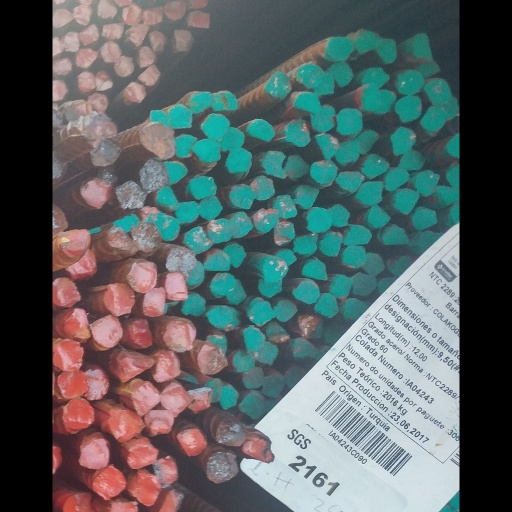dipstick: (103, 122, 157, 159), (91, 468, 138, 506), (57, 280, 106, 315), (33, 432, 77, 470), (75, 350, 127, 382), (85, 436, 135, 469), (1, 228, 47, 263), (66, 409, 116, 441), (44, 134, 91, 168), (46, 312, 89, 349), (1, 308, 49, 341), (33, 111, 84, 142), (47, 465, 92, 500), (9, 397, 55, 431), (190, 449, 234, 484), (86, 316, 132, 348), (62, 223, 108, 255), (241, 428, 281, 464), (88, 258, 130, 292), (155, 425, 198, 458), (32, 177, 76, 209), (200, 413, 242, 445), (76, 179, 122, 208), (99, 381, 136, 417), (108, 158, 148, 191), (140, 317, 180, 350), (1, 338, 41, 371), (196, 302, 239, 332), (20, 247, 63, 276), (98, 220, 138, 251), (184, 343, 223, 374), (124, 456, 163, 487), (257, 147, 294, 179), (125, 350, 163, 381), (3, 369, 45, 397), (264, 70, 304, 99), (143, 244, 179, 276), (189, 217, 235, 242), (116, 407, 154, 437), (306, 312, 345, 341), (162, 88, 207, 113), (183, 111, 223, 139), (290, 116, 325, 148), (163, 225, 203, 253), (1, 276, 37, 307), (233, 390, 272, 418), (244, 295, 279, 326), (135, 382, 170, 413), (357, 107, 391, 138), (220, 210, 256, 239), (310, 255, 350, 281), (342, 34, 379, 62), (466, 77, 503, 105), (450, 169, 487, 197), (424, 188, 462, 215), (314, 205, 352, 232), (152, 198, 190, 225), (41, 366, 72, 399), (112, 286, 145, 317), (220, 183, 255, 212), (134, 271, 169, 300), (122, 489, 166, 512), (323, 158, 359, 186), (431, 96, 467, 124), (300, 279, 337, 306), (174, 137, 212, 163), (210, 240, 245, 268), (249, 207, 288, 232), (125, 185, 164, 210), (149, 131, 185, 158), (273, 194, 310, 220), (261, 255, 298, 281), (373, 271, 410, 297), (464, 103, 495, 134), (241, 118, 281, 142), (425, 125, 457, 155), (218, 147, 252, 175), (386, 152, 424, 177), (411, 222, 449, 247), (300, 183, 335, 210), (354, 169, 393, 193), (168, 385, 204, 411), (235, 324, 267, 353), (200, 88, 237, 113), (172, 175, 209, 200), (387, 65, 427, 88), (297, 335, 335, 359), (144, 103, 179, 129), (247, 175, 282, 201), (305, 62, 341, 87), (389, 204, 425, 229), (452, 31, 481, 62), (300, 91, 339, 114), (328, 291, 361, 318), (381, 181, 418, 205), (452, 206, 489, 230), (344, 62, 379, 87), (137, 157, 172, 182), (276, 297, 311, 322), (294, 154, 326, 181), (334, 232, 366, 259), (276, 221, 309, 247), (208, 127, 242, 152), (381, 86, 415, 111), (182, 196, 216, 221), (369, 223, 404, 247), (325, 105, 356, 132), (346, 201, 377, 228), (162, 290, 193, 317), (356, 139, 388, 165), (346, 274, 378, 300), (198, 272, 230, 298), (413, 164, 449, 187), (302, 233, 335, 258), (222, 347, 255, 372), (256, 277, 295, 298), (433, 70, 467, 94), (330, 133, 360, 160), (378, 28, 408, 55), (383, 129, 414, 155), (191, 249, 223, 274), (407, 35, 434, 64), (136, 213, 163, 242), (435, 148, 469, 171), (261, 372, 292, 397), (289, 363, 321, 387), (189, 375, 217, 402), (167, 259, 192, 289), (364, 297, 398, 319), (57, 39, 89, 62), (389, 250, 417, 276), (10, 98, 44, 119), (210, 381, 235, 409), (406, 90, 435, 114), (365, 244, 394, 268), (32, 23, 61, 47), (478, 183, 508, 206), (151, 28, 181, 51), (86, 81, 117, 103), (276, 246, 310, 266), (76, 55, 105, 78), (117, 106, 150, 126), (85, 3, 115, 25), (108, 64, 139, 85), (167, 9, 198, 30), (116, 207, 142, 232), (194, 330, 223, 352), (93, 23, 122, 45), (41, 91, 71, 112), (27, 48, 57, 69), (237, 364, 264, 387), (52, 68, 80, 90), (457, 58, 489, 77), (268, 321, 298, 341), (61, 21, 91, 41), (107, 45, 131, 69), (28, 69, 52, 93), (111, 6, 139, 26), (23, 3, 49, 24), (140, 0, 167, 20), (53, 167, 84, 184), (0, 7, 25, 28), (56, 1, 83, 20), (121, 29, 144, 51), (1, 57, 27, 76), (0, 78, 21, 101), (11, 32, 36, 51)
